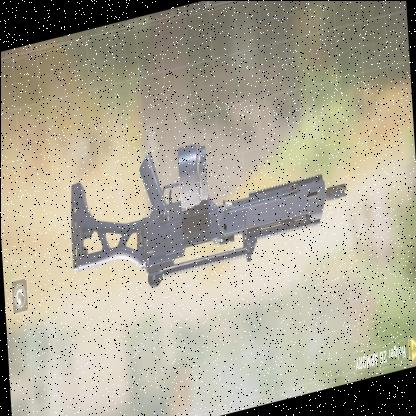rifle: (57, 84, 346, 311)
